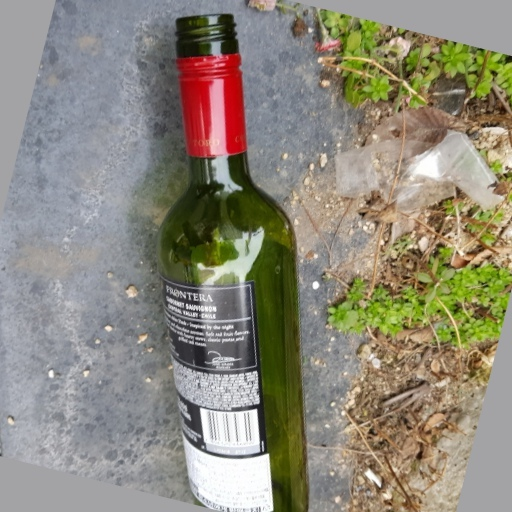Glass_2: (151, 16, 308, 512)
